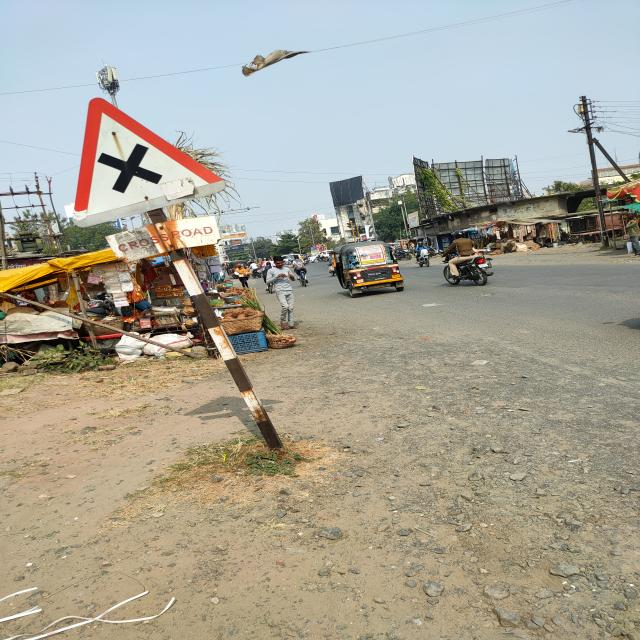CROSS_ROAD: (65, 96, 228, 228)
